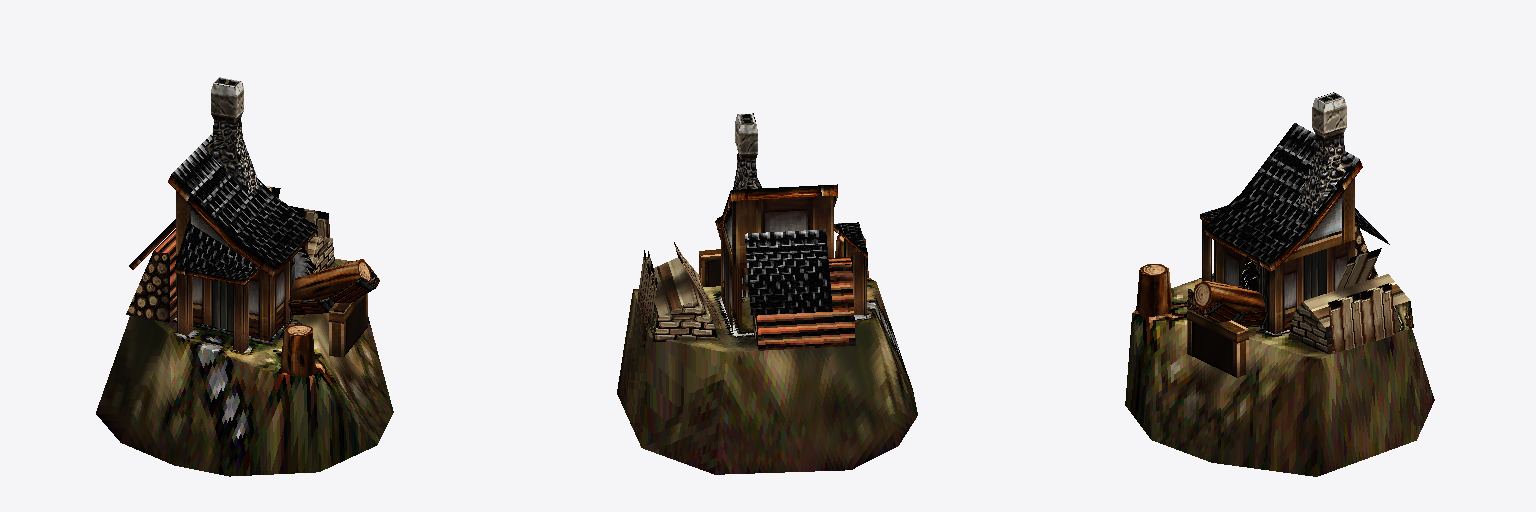
3 renders of one model, left to right at view 1: azimuth 30°, elevation 25°; view 2: azimuth 150°, elevation 25°; view 3: azimuth 270°, elevation 25°, orthographic.
Parts seen in each view (by area): view 1: group1 Mesh10, Mesh01 group1, group1 Mesh02; view 2: group1 Mesh10, Mesh01 group1, group1 Mesh02; view 3: group1 Mesh10, Mesh01 group1, group1 Mesh02.
Part boxes in pixels (bbox=[...]): group1 Mesh10: bbox=[96, 259, 393, 476]; Mesh01 group1: bbox=[126, 77, 379, 377]; group1 Mesh02: bbox=[172, 133, 317, 280]; group1 Mesh10: bbox=[617, 278, 917, 474]; Mesh01 group1: bbox=[638, 113, 868, 350]; group1 Mesh02: bbox=[727, 201, 867, 315]; group1 Mesh10: bbox=[1125, 273, 1434, 476]; Mesh01 group1: bbox=[1136, 92, 1413, 377]; group1 Mesh02: bbox=[1201, 123, 1389, 263].
Bounding box in the file's own units: 288 × 324 × 291.
Materials: 3 (1 with a texture image).